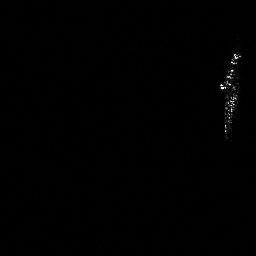ship: (220, 51, 242, 90)
